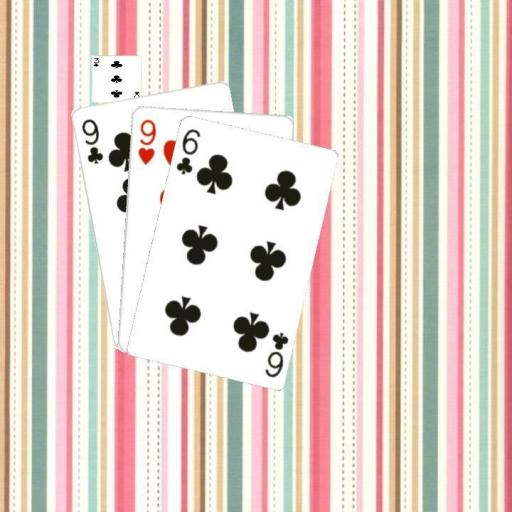card-corner: (173, 125, 202, 176), (262, 328, 289, 378), (78, 115, 104, 166), (134, 115, 158, 166)
